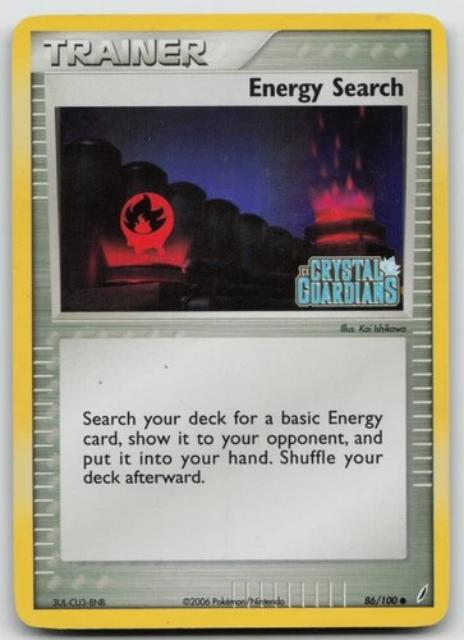Card: (5, 8, 454, 633)
Name: (242, 71, 411, 105)
